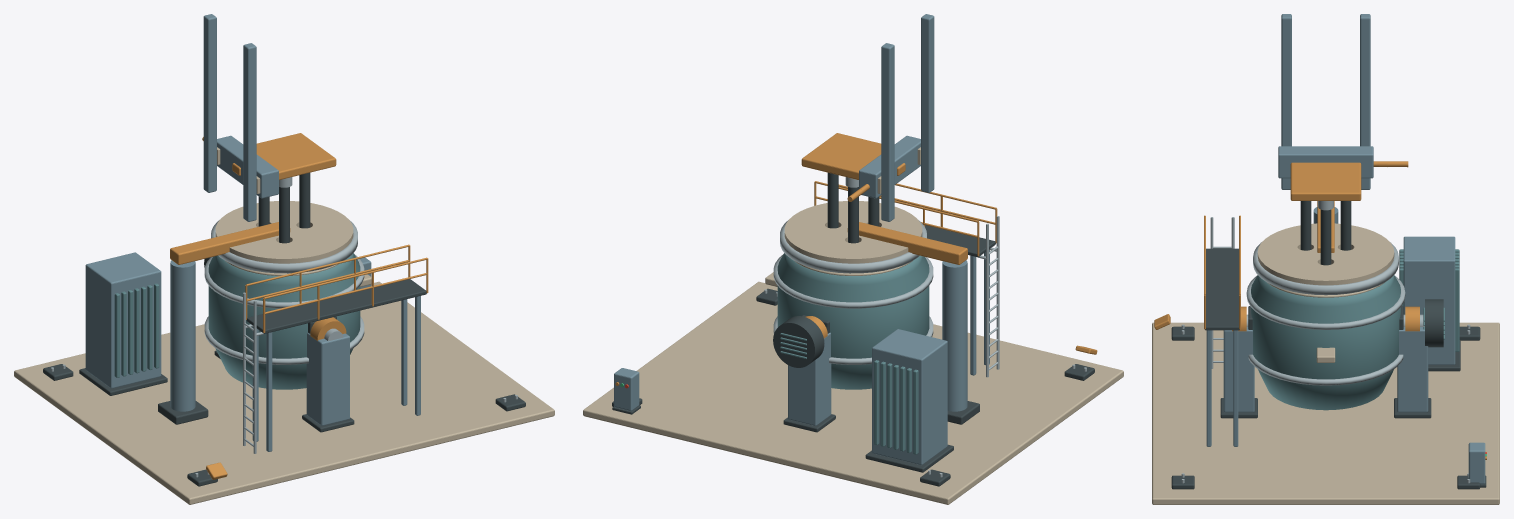
The model's file is STS-PLATE-02-lod0.glb.
3 renders of one model, left to right at view 1: azimuth 30°, elevation 25°; view 2: azimuth 150°, elevation 25°; view 3: azimuth 270°, elevation 25°, orthographic.
Visible parts, largest first — view 1: foundation, refractory_vessel, transformer_cabinet, roof_shell, roof_pivot_column, far_pedestal, eaf_service_deck, roof_electrode_guide_0.95, roof_electrode_guide_-0.95, electrode_carrier, roof_swing_arm, electrode_slide_carriage (+11 smaller); view 2: foundation, refractory_vessel, transformer_cabinet, roof_shell, roof_pivot_column, near_pedestal, roof_electrode_guide_-0.95, roof_electrode_guide_0.95, electrode_carrier, tilt_gearbox, roof_swing_arm, roof_water_jacket (+7 smaller); view 3: foundation, refractory_vessel, roof_shell, transformer_cabinet, electrode_carrier, eaf_service_deck, near_pedestal, far_pedestal, electrode_slide_carriage, roof_water_jacket, roof_electrode_guide_-0.95, roof_electrode_guide_0.95 (+10 smaller).
Boxes of the visible parts, x1,y1,x2,y2 form: foundation: (14, 281, 554, 504); refractory_vessel: (208, 253, 360, 389); transformer_cabinet: (85, 252, 161, 388); roof_shell: (215, 201, 353, 263); roof_pivot_column: (170, 260, 195, 411); far_pedestal: (306, 332, 349, 425); eaf_service_deck: (246, 279, 426, 333); roof_electrode_guide_0.95: (243, 43, 256, 221); roof_electrode_guide_-0.95: (203, 14, 216, 192); electrode_carrier: (256, 133, 336, 179); roof_swing_arm: (170, 222, 290, 264); electrode_slide_carriage: (217, 135, 278, 198); foundation: (583, 281, 1123, 504); refractory_vessel: (777, 253, 929, 389); transformer_cabinet: (872, 329, 947, 465); roof_shell: (784, 201, 922, 263); roof_pivot_column: (942, 260, 967, 411); near_pedestal: (788, 332, 831, 425); roof_electrode_guide_-0.95: (881, 43, 894, 221); roof_electrode_guide_0.95: (921, 14, 934, 192); electrode_carrier: (801, 133, 881, 179); tilt_gearbox: (773, 316, 824, 367); roof_swing_arm: (847, 222, 967, 264); roof_water_jacket: (780, 220, 926, 273); foundation: (1152, 322, 1499, 504); refractory_vessel: (1251, 275, 1400, 410); roof_shell: (1257, 223, 1394, 285); transformer_cabinet: (1403, 236, 1455, 364); electrode_carrier: (1290, 162, 1361, 200); eaf_service_deck: (1205, 248, 1239, 330); near_pedestal: (1397, 327, 1428, 412); far_pedestal: (1223, 327, 1254, 412); electrode_slide_carriage: (1278, 146, 1373, 178); roof_water_jacket: (1253, 242, 1398, 295); roof_electrode_guide_-0.95: (1360, 14, 1370, 189); roof_electrode_guide_0.95: (1281, 14, 1291, 189).
Bounding box in the file's own units: 10.1 × 10.02 × 8.4.
